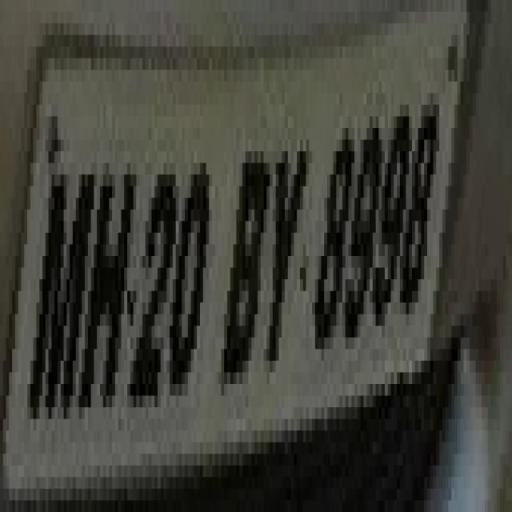number plate: (5, 34, 512, 453)
